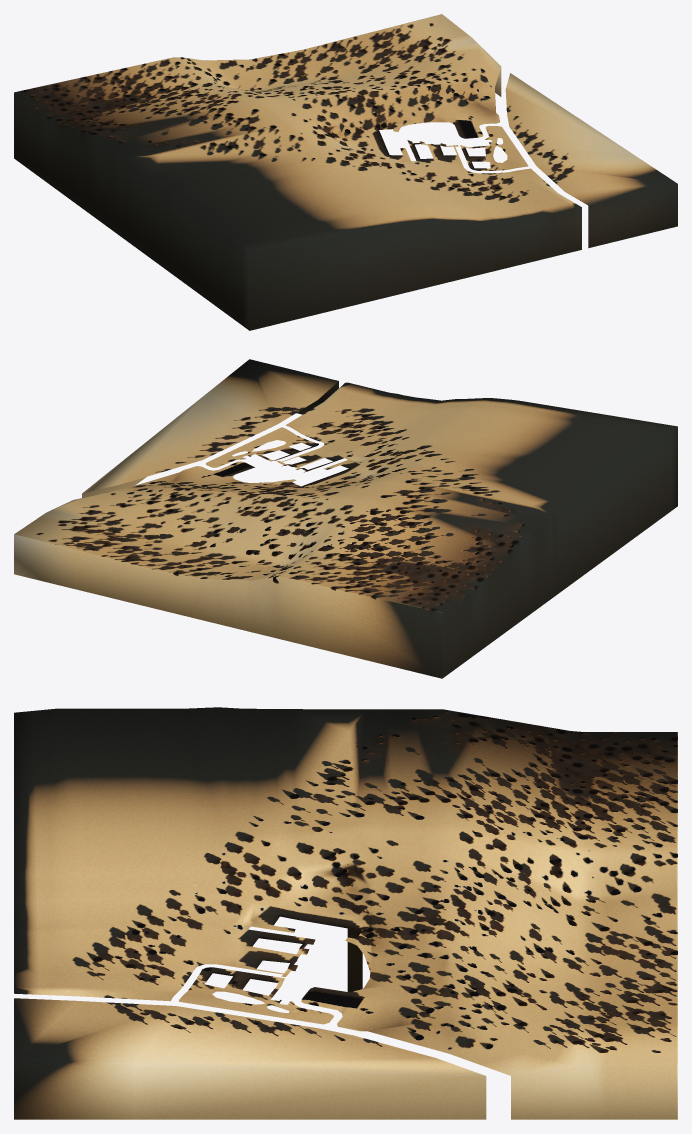
The model's file is Ground.fbx.
3 renders of one model, top to bottom at view 1: azimuth 30°, elevation 25°; view 2: azimuth 150°, elevation 25°; view 3: azimuth 270°, elevation 25°, orthographic. The views are drawn at different scales.
Parts seen in each view (by area): view 1: Ground; view 2: Ground; view 3: Ground.
Part boxes in pixels (x1,y1,x2,y2): Ground: (14, 14, 677, 330); Ground: (14, 359, 677, 678); Ground: (14, 707, 677, 1119).
Size of the model in its own units: 562 by 105 by 536.
Materials: 1 (1 with a texture image).
